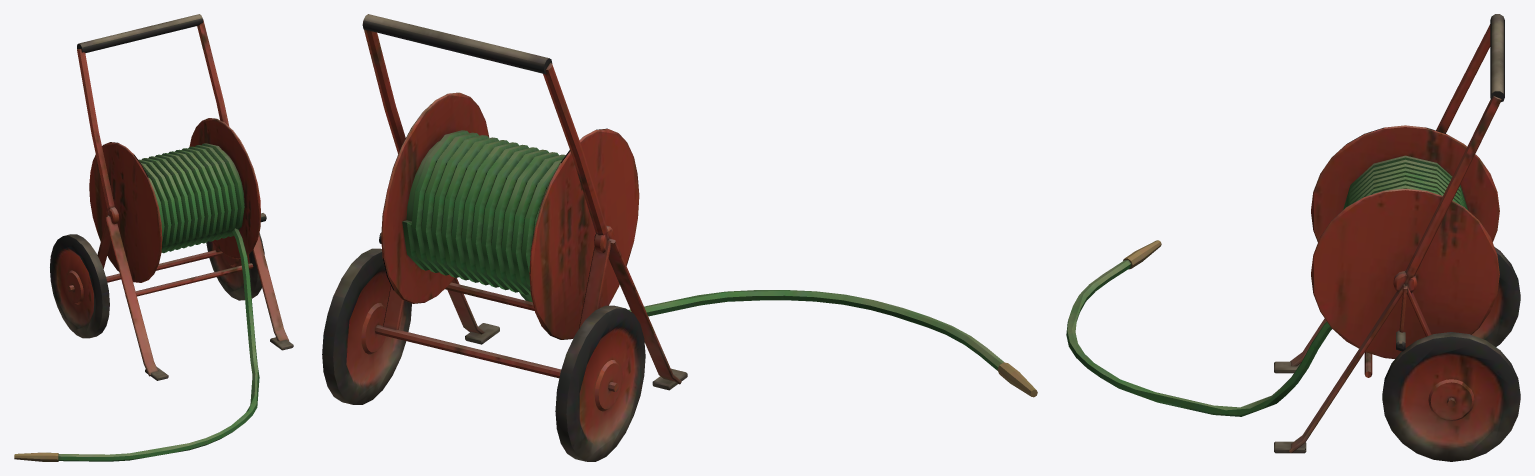
The model's file is hose_reel-low.glb.
3 views of the same model, side by side, from view 1: azimuth 30°, elevation 25°; view 2: azimuth 150°, elevation 25°; view 3: azimuth 270°, elevation 25° (orthographic). The views are drawn at different scales.
Parts seen in each view (by area): view 1: hose_reel; view 2: hose_reel; view 3: hose_reel.
Part boxes in pixels (x1,y1,x2,y2): hose_reel: (14,14,293,461); hose_reel: (322,14,1037,461); hose_reel: (1066,14,1520,461).
Size of the model in its own units: 1.13 by 0.8607 by 0.9853.
2 materials, 2 textured.
